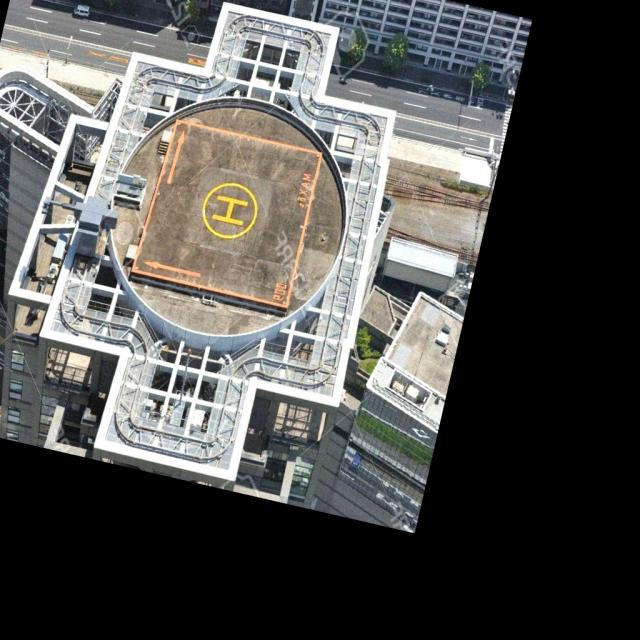helipad: (198, 179, 262, 241)
